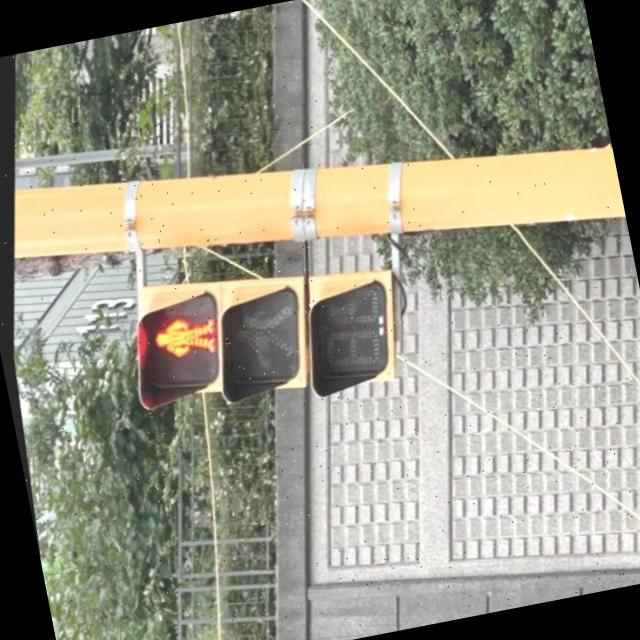red_light: (130, 293, 227, 391)
